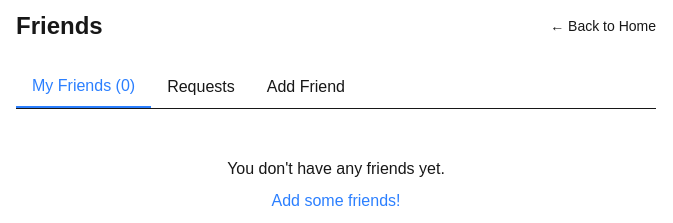
FriendsPage › switches to requests tab
What coordinates should you click on to do the following:
click the button "Requests"
I would click on:
 (201, 87)
Its box is [151,66,251,108].
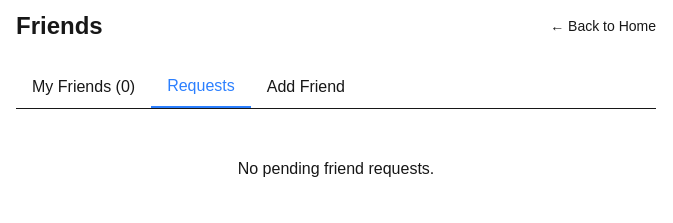
Expected: the text "No pending friend requests." is shown, [238,160,434,177]
